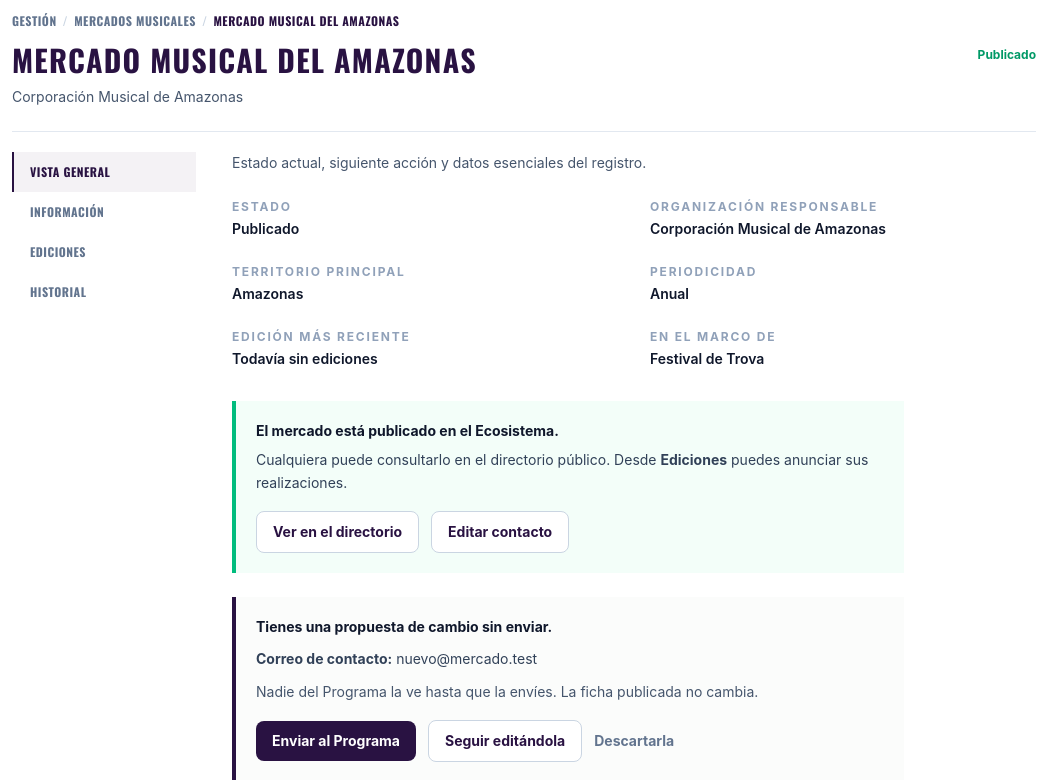
it: FichaDeMercadoPageComponent › descartar el borrador lo retira y deja dicho que la ficha publicada no cambió
Click the button "Descartarla" at point(634, 740), box [594, 730, 674, 750]
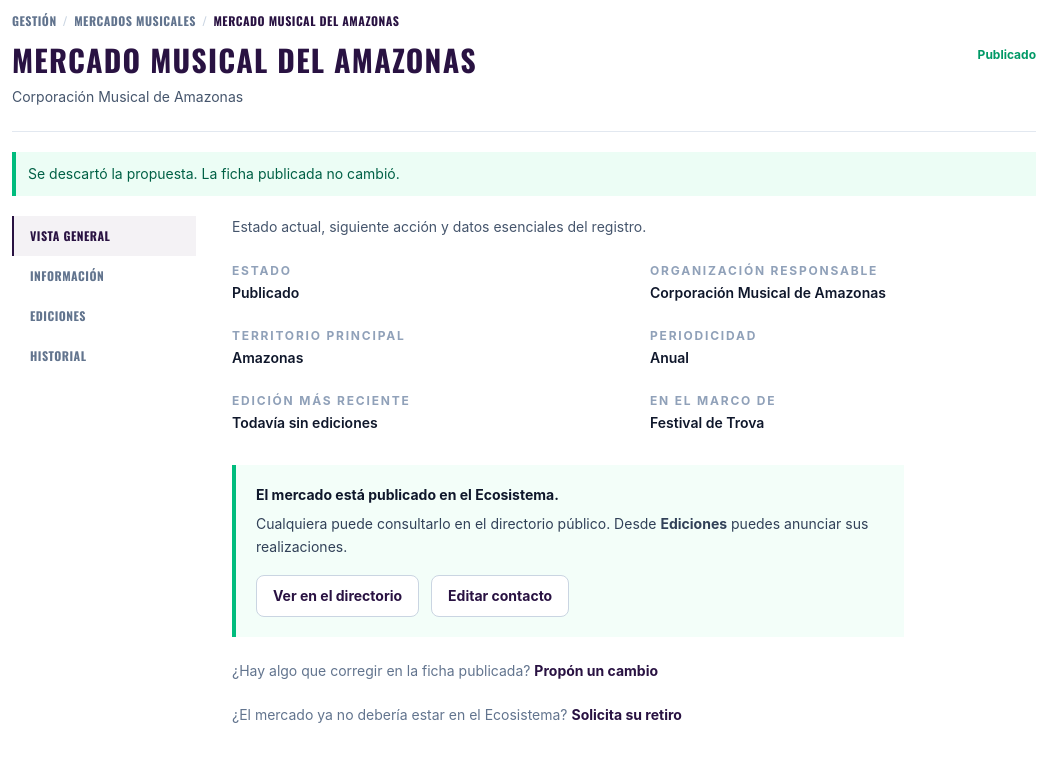
Check: the text "La ficha publicada no cambió" is shown, box [28, 164, 400, 182]
